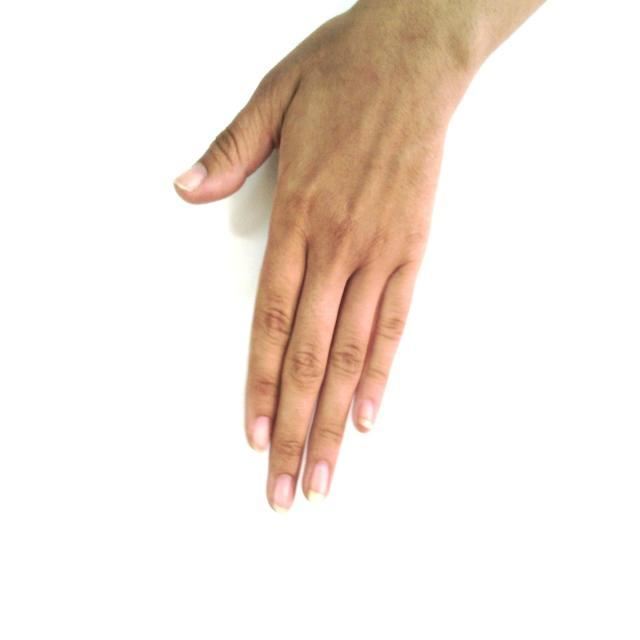Fingernail: (307, 462, 329, 500), (176, 164, 205, 191), (273, 474, 293, 512), (253, 417, 270, 451), (358, 400, 375, 428)
